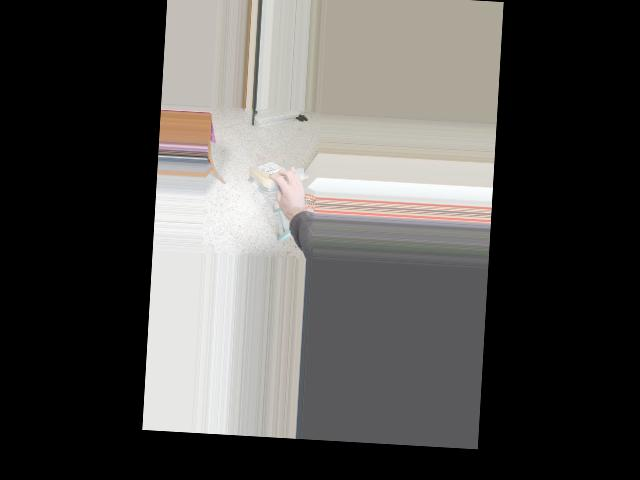cheese: (246, 159, 292, 191)
